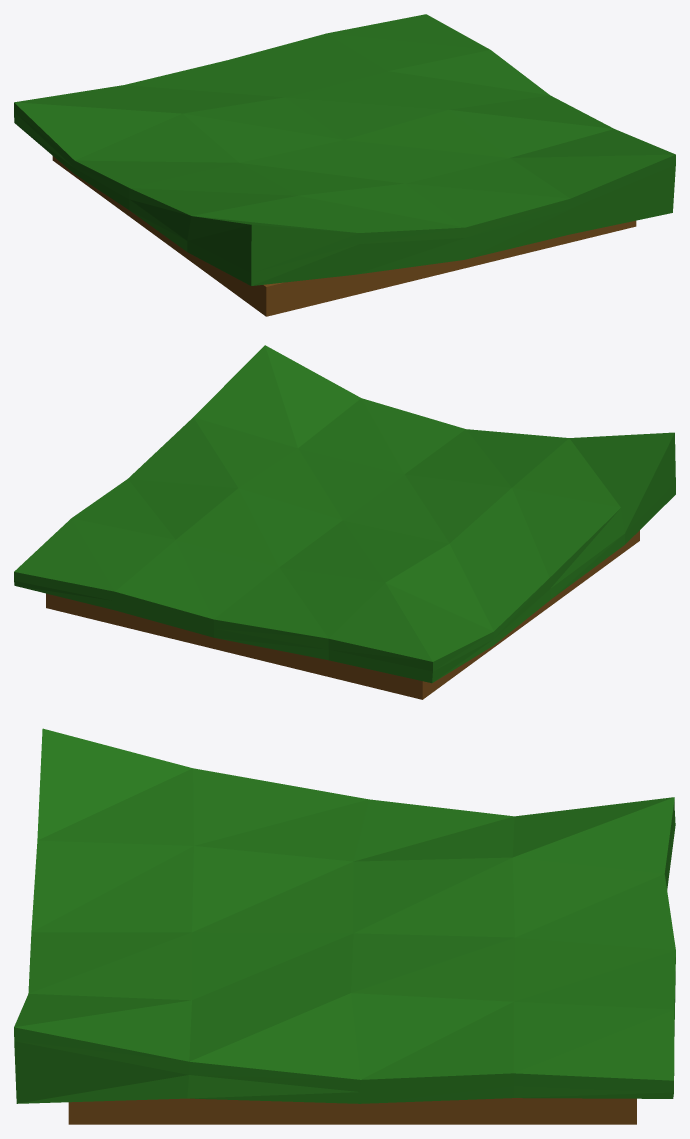
3 renders of one model, top to bottom at view 1: azimuth 30°, elevation 25°; view 2: azimuth 150°, elevation 25°; view 3: azimuth 270°, elevation 25°, orthographic. The views are drawn at different scales.
Parts seen in each view (by area): view 1: base; view 2: base; view 3: base.
Part boxes in pixels (left/top/right/bottom): base: left=14, top=14, right=675, bottom=316; base: left=14, top=345, right=675, bottom=699; base: left=14, top=728, right=675, bottom=1124.
Size of the model in its own units: 3012 by 706 by 3029.
